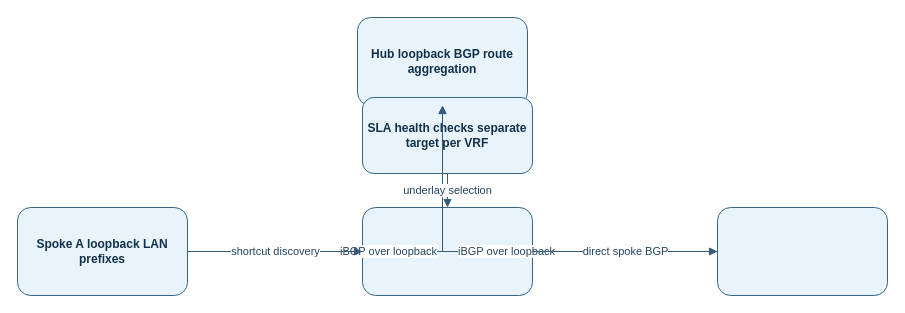
Some shapes in this 905 by 313 pixel diagram are drawn without their labels. The box of each missing label's shape, as (x1, y1, x2, y2) in pixels:
ADVPN shortcut healthy underlay dynamic BGP peer: (362, 206, 532, 296)
Spoke B loopback LAN prefixes: (716, 206, 888, 296)
